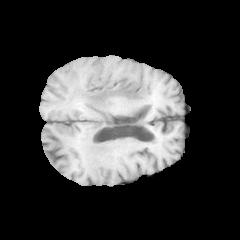glioma: (69, 70, 147, 116)
